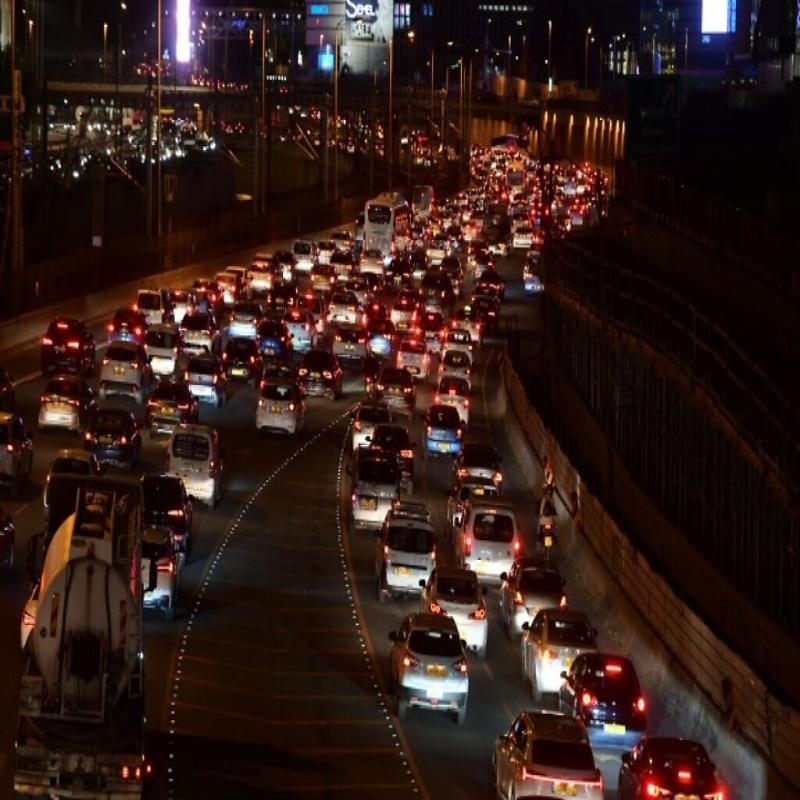car: (389, 597, 484, 719), (489, 701, 579, 800), (384, 486, 441, 609), (426, 552, 489, 660), (575, 641, 645, 738), (355, 449, 419, 542), (532, 600, 592, 694), (626, 734, 706, 800), (504, 560, 559, 638), (457, 499, 517, 564)
